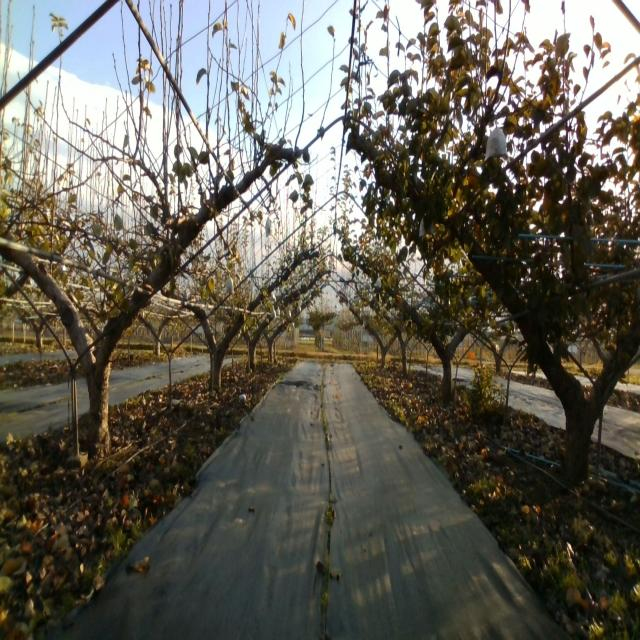pearbags: (484, 118, 508, 161), (223, 274, 236, 294)
